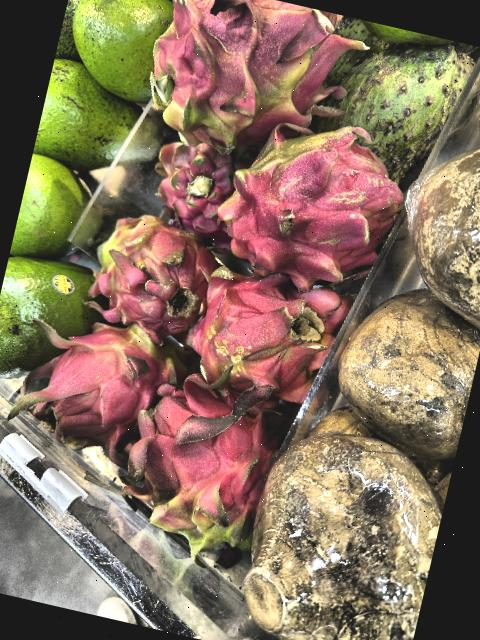buah-naga-belum-matang: (129, 0, 358, 162), (0, 306, 178, 493), (216, 117, 406, 291), (175, 255, 356, 413), (95, 205, 226, 351), (131, 123, 250, 245)
buah-naga-matang: (113, 364, 286, 564)
